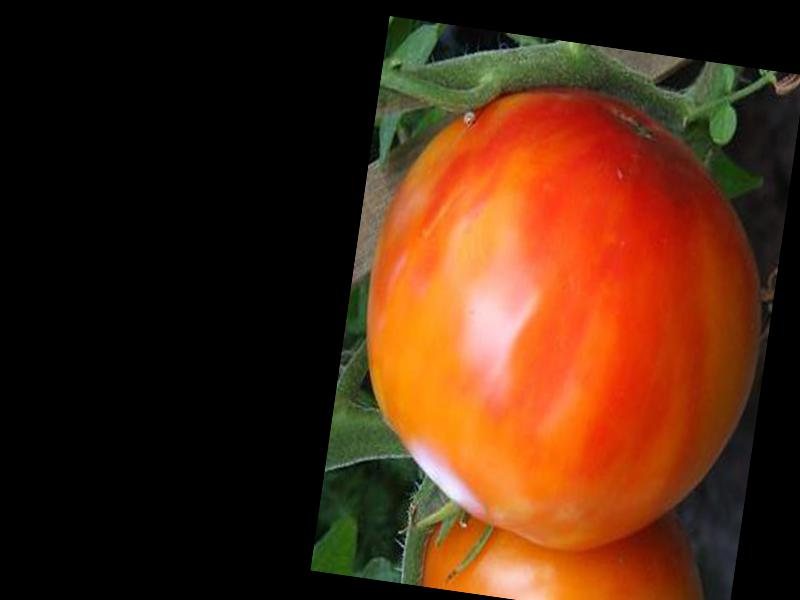Tomato: (337, 66, 790, 567)
